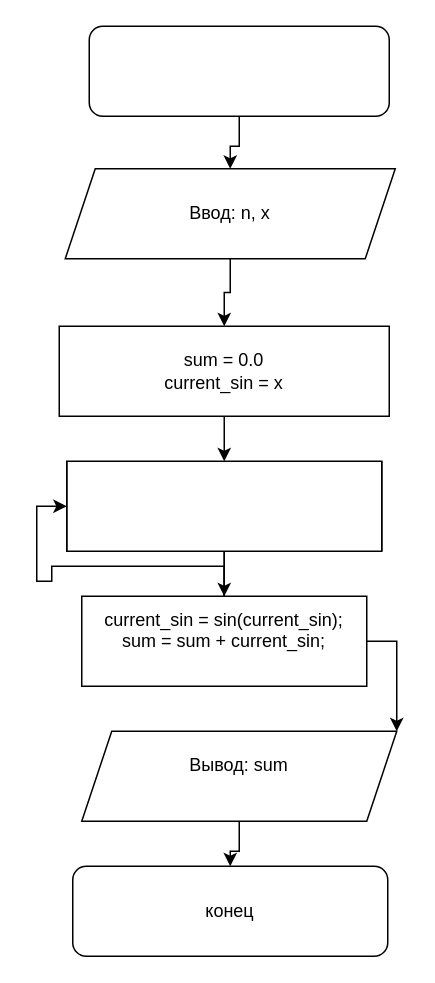
Image size: 435x983. Some labels were removed from this diagram. The centre of each missing label's shape, as x and y in pixels:
i = 1, n = 1: [223,505]
начало: [238,70]
